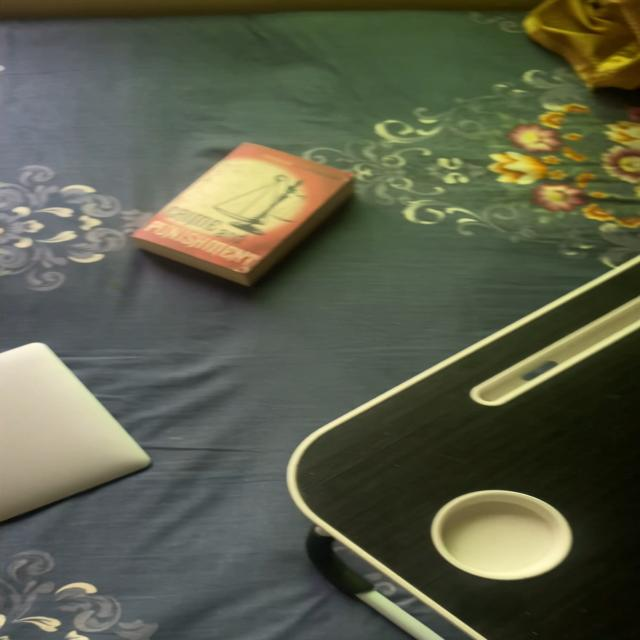book: (122, 131, 394, 293)
laptop: (0, 340, 166, 538)
table: (285, 224, 639, 640)
